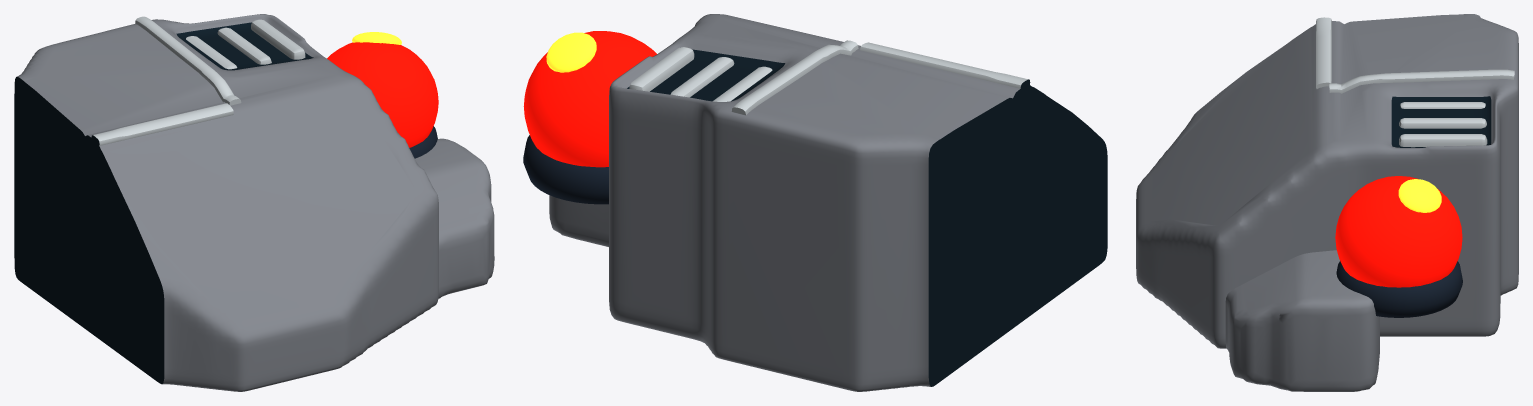
File: claw_body_r.glb
3 views of the same model, side by side, from view 1: azimuth 30°, elevation 25°; view 2: azimuth 150°, elevation 25°; view 3: azimuth 270°, elevation 25° (orthographic). The views are drawn at different scales.
Parts seen in each view (by area): view 1: housing-1.001, jaw-1.001, ball-1.001, crease-1.001, ridge-1.001, fin-1_0.001, fin-1_1.001, fin-1_2.001, ball_hot-1.001; view 2: housing-1.001, ball-1.001, collar-1.001, jaw-1.001, ridge-1.001, crease-1.001, ball_hot-1.001, fin-1_0.001, fin-1_1.001, fin-1_2.001; view 3: housing-1.001, jaw-1.001, ball-1.001, collar-1.001, ridge-1.001, ball_hot-1.001, crease-1.001, fin-1_0.001, fin-1_1.001, fin-1_2.001.
Boxes of the visible parts, left/top/right/bottom form: housing-1.001: left=14, top=14, right=438, bottom=391; jaw-1.001: left=415, top=138, right=494, bottom=298; ball-1.001: left=327, top=42, right=438, bottom=147; crease-1.001: left=91, top=103, right=233, bottom=148; ridge-1.001: left=135, top=16, right=241, bottom=105; fin-1_0.001: left=251, top=19, right=305, bottom=59; fin-1_1.001: left=217, top=27, right=271, bottom=64; fin-1_2.001: left=186, top=36, right=237, bottom=69; ball_hot-1.001: left=352, top=32, right=401, bottom=44; housing-1.001: left=609, top=14, right=1107, bottom=391; ball-1.001: left=523, top=31, right=656, bottom=167; collar-1.001: left=523, top=135, right=608, bottom=204; jaw-1.001: left=549, top=195, right=608, bottom=246; ridge-1.001: left=731, top=40, right=858, bottom=115; crease-1.001: left=860, top=42, right=1030, bottom=94; ball_hot-1.001: left=546, top=32, right=596, bottom=72; fin-1_0.001: left=629, top=47, right=694, bottom=91; fin-1_1.001: left=670, top=57, right=734, bottom=97; fin-1_2.001: left=713, top=66, right=772, bottom=101; housing-1.001: left=1136, top=14, right=1518, bottom=348; jaw-1.001: left=1225, top=250, right=1379, bottom=391; ball-1.001: left=1335, top=176, right=1462, bottom=287; collar-1.001: left=1336, top=261, right=1462, bottom=317; ridge-1.001: left=1329, top=69, right=1514, bottom=93; ball_hot-1.001: left=1398, top=179, right=1441, bottom=212; crease-1.001: left=1316, top=17, right=1331, bottom=88; fin-1_0.001: left=1399, top=134, right=1487, bottom=147; fin-1_1.001: left=1399, top=118, right=1486, bottom=128; fin-1_2.001: left=1400, top=102, right=1485, bottom=108.
Bounding box in the file's own units: 22.67 × 12.22 × 20.17.
